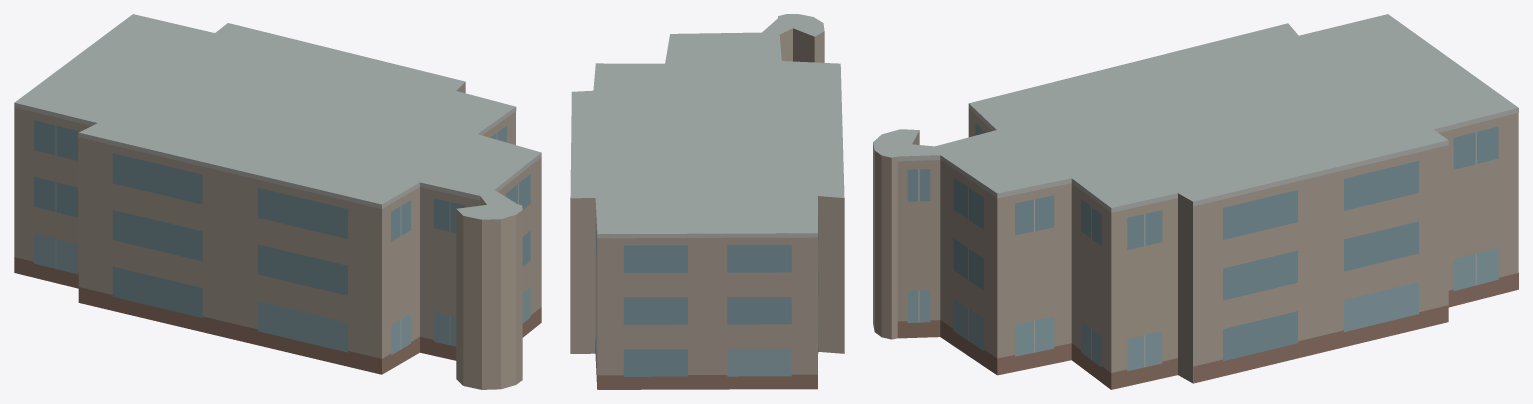
Rendered from survey-upis-32467669.glb.
3 renders of one model, left to right at view 1: azimuth 30°, elevation 25°; view 2: azimuth 150°, elevation 25°; view 3: azimuth 270°, elevation 25°, orthographic. The views are drawn at different scales.
Visible parts, largest first — view 1: survey-upis-32467669.tmp; view 2: survey-upis-32467669.tmp; view 3: survey-upis-32467669.tmp.
Boxes of the visible parts, box(x1,y1,x2,y2) form: survey-upis-32467669.tmp: box(14, 14, 541, 389); survey-upis-32467669.tmp: box(570, 14, 844, 389); survey-upis-32467669.tmp: box(873, 14, 1518, 389).
Size of the model in its own units: 20.95 by 9.15 by 29.45.
